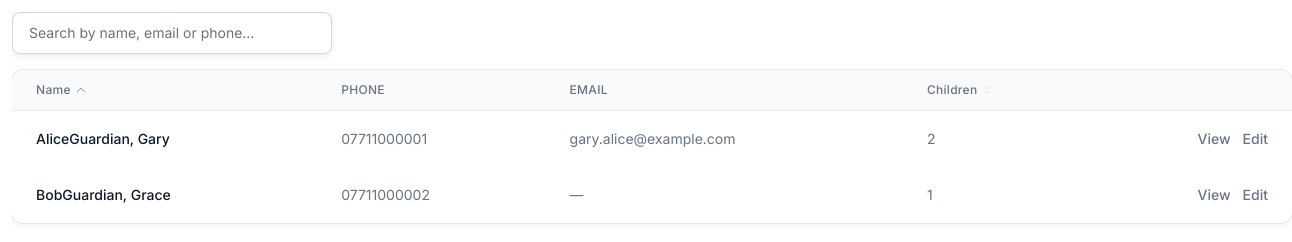
Test: GuardiansTable › does not route a short digit-only query into phone matching
Type "3" into the search field with placeholder "Search by name, email or phone…".
click(172, 33); type("3")  # box 12,12 -> 332,54
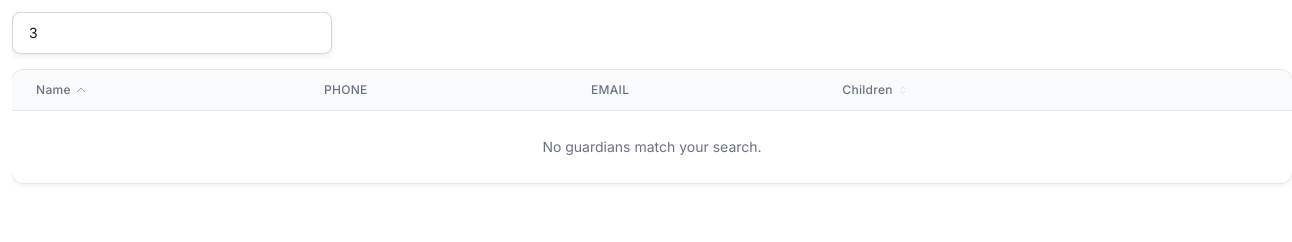
Now the text "AliceGuardian, Gary" is gone
Now the text "BobGuardian, Grace" is gone
